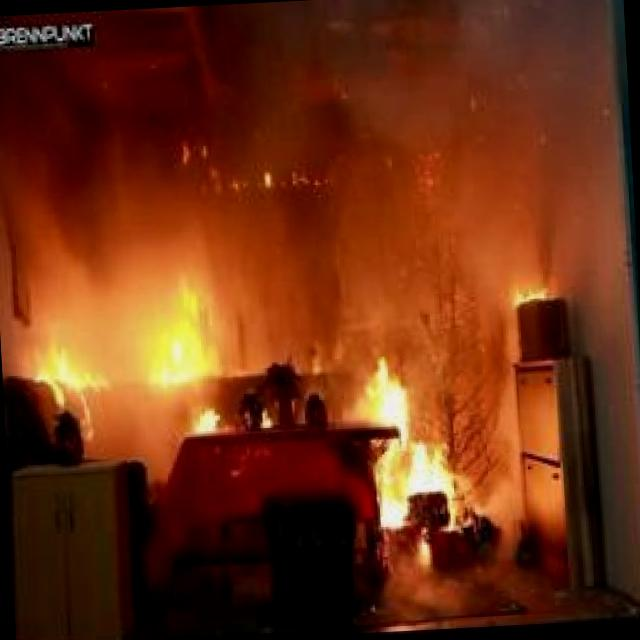fire: (19, 232, 478, 546)
